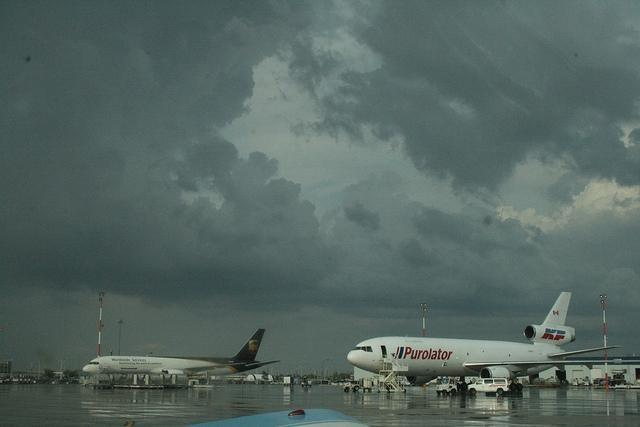truck: (468, 377, 511, 395), (436, 376, 466, 396)
